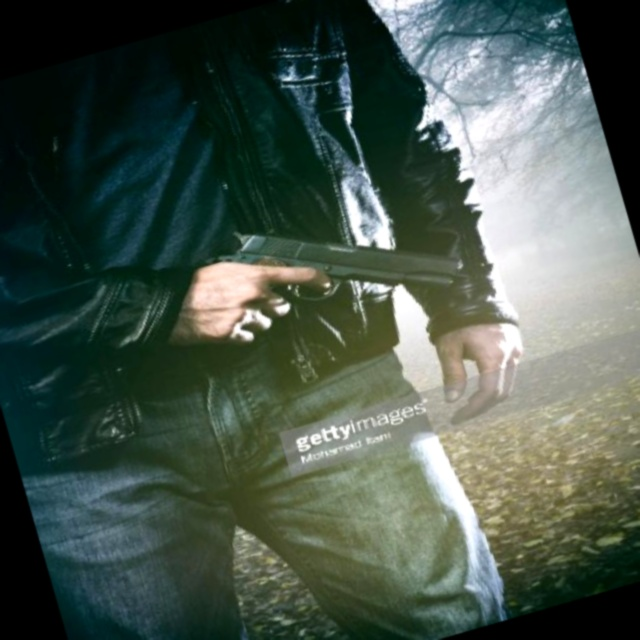gun: (210, 166, 475, 357)
